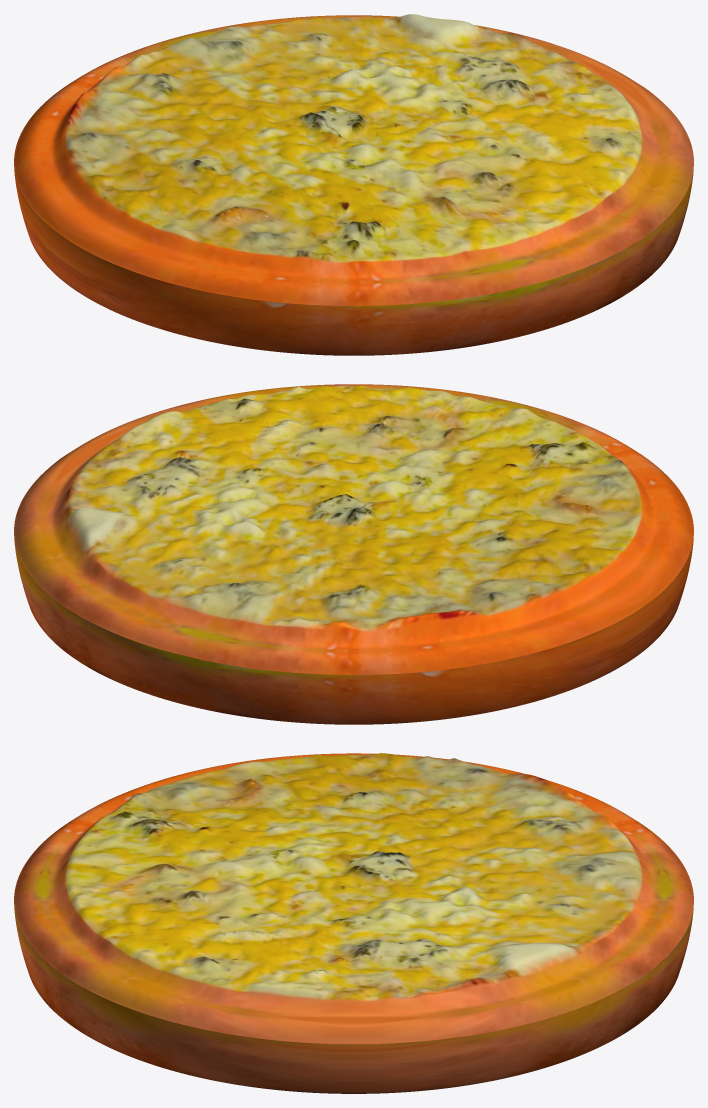
The model's file is 4-quesos.glb.
3 renders of one model, top to bottom at view 1: azimuth 30°, elevation 25°; view 2: azimuth 150°, elevation 25°; view 3: azimuth 270°, elevation 25°, orthographic.
Visible parts, largest first — view 1: 4 Quesos; view 2: 4 Quesos; view 3: 4 Quesos.
Boxes of the visible parts, left/top/right/bottom form: 4 Quesos: left=14, top=14, right=693, bottom=355; 4 Quesos: left=14, top=384, right=693, bottom=724; 4 Quesos: left=14, top=753, right=693, bottom=1093.
Bounding box in the file's own units: 0.36 × 0.0544 × 0.36.
Materials: 2 (2 with a texture image).
